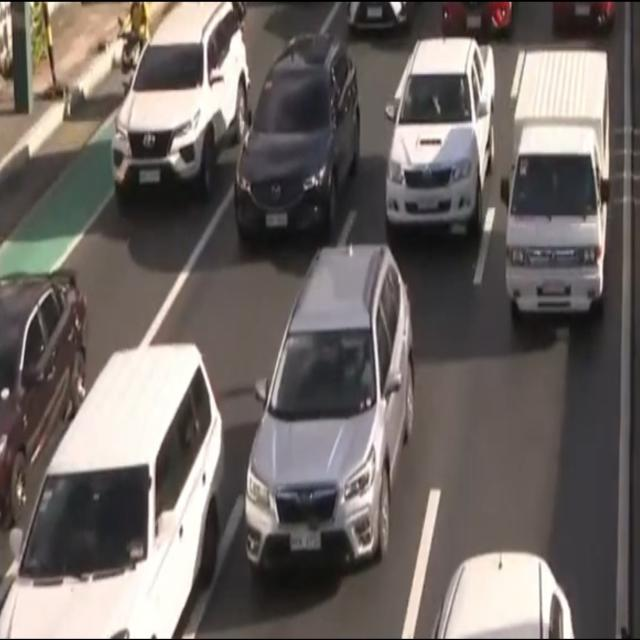Motorcycle: (109, 6, 150, 102)
Pick-up: (500, 58, 612, 317)
SUV: (0, 345, 227, 640), (239, 249, 414, 579), (114, 4, 247, 206), (388, 37, 497, 244)
Sedan: (231, 43, 360, 256), (0, 262, 89, 532), (419, 530, 573, 640)
